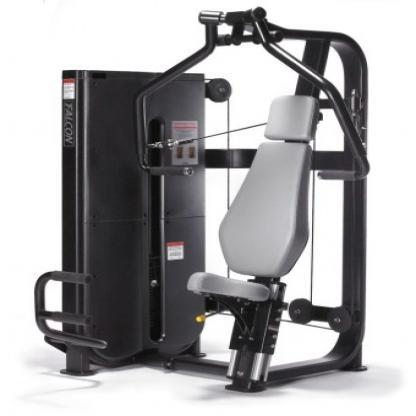Chest Press machine: (29, 6, 379, 404)
